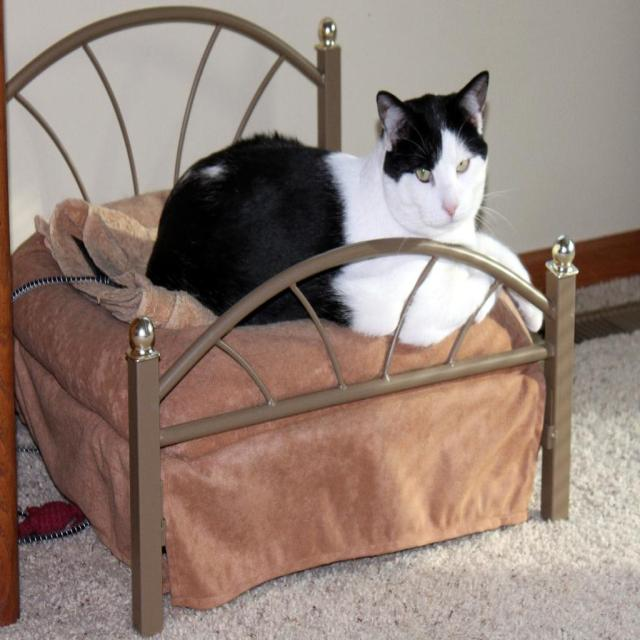Cat: (145, 69, 544, 349)
